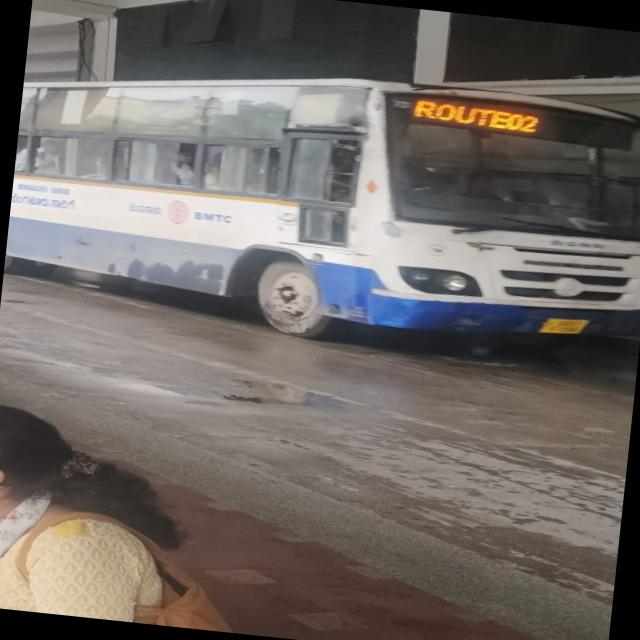bus: (0, 38, 640, 370)
display: (411, 95, 636, 151)
dnumber: (416, 98, 536, 134)
